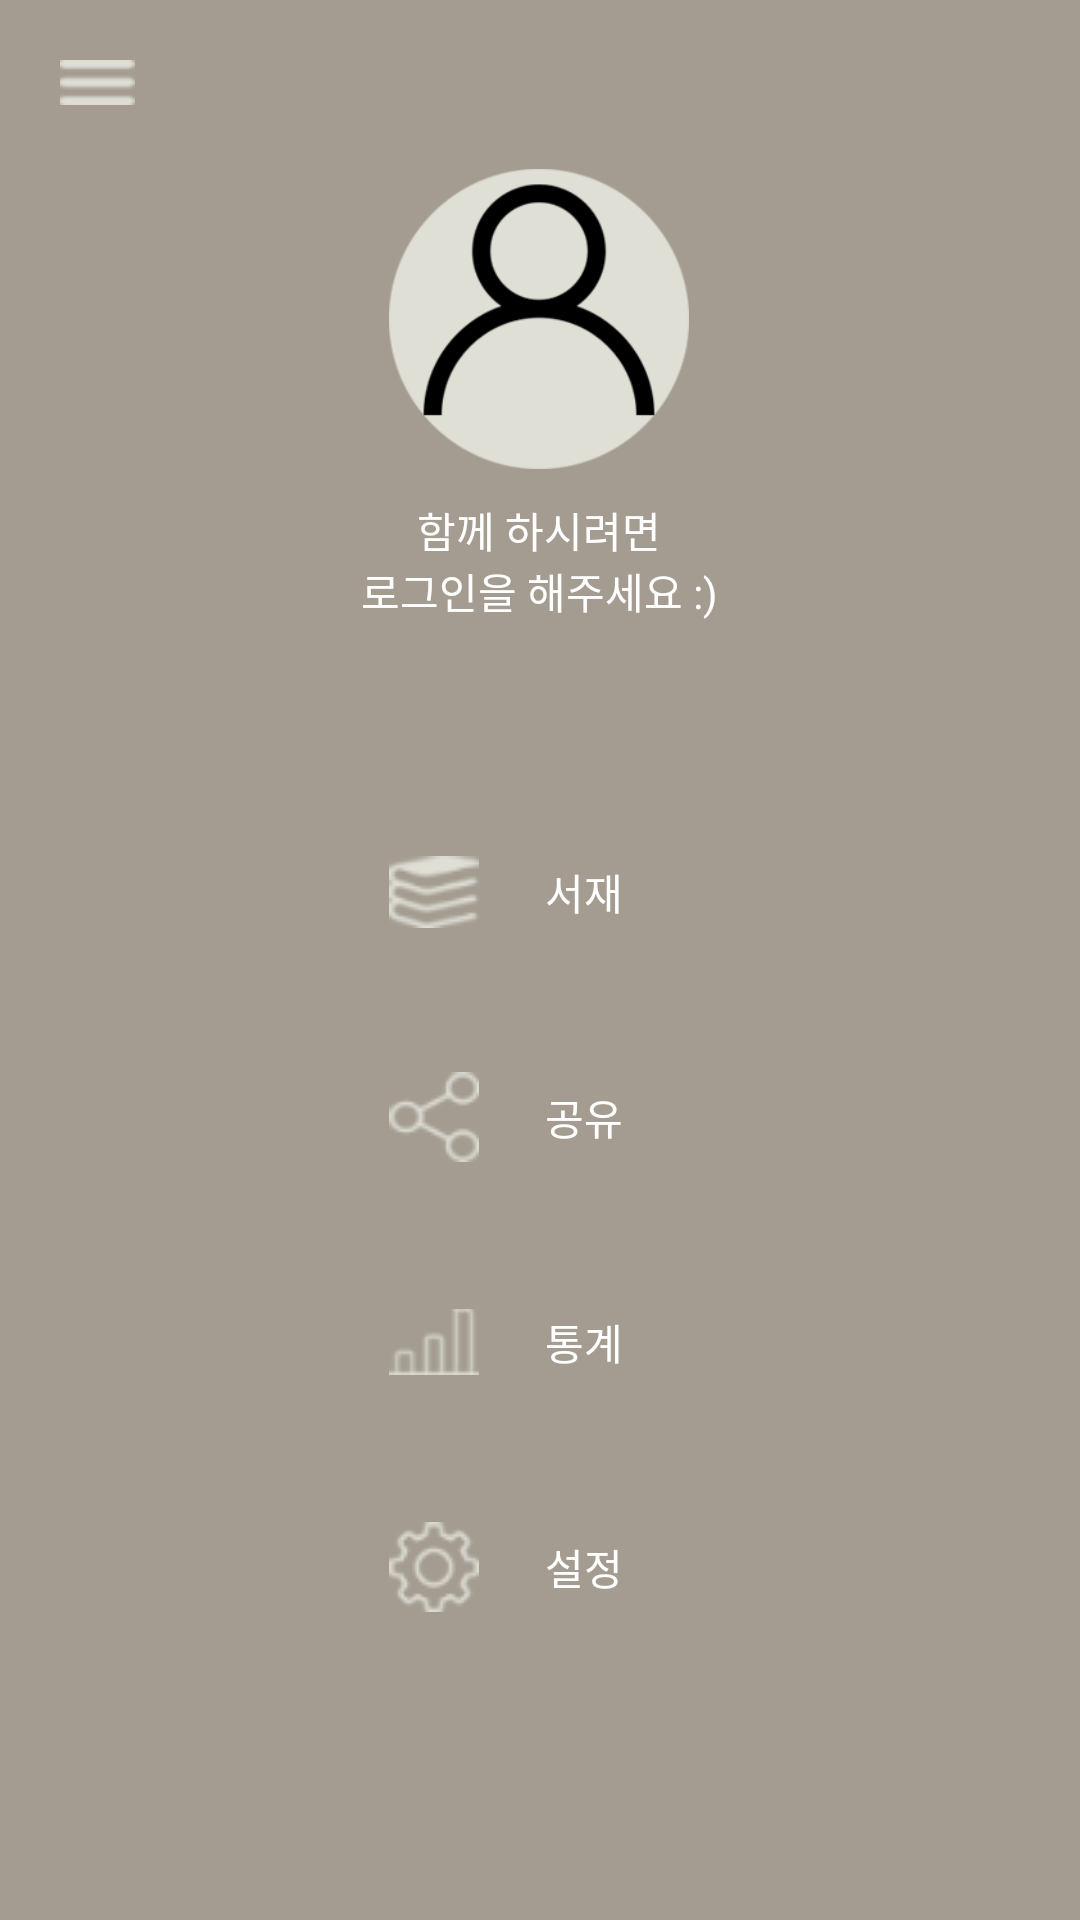

Icons on this 1080px×1920px Android screen, each with its box as (x1, y1, x2, y2):
menu: (60, 60, 135, 105)
profile: (389, 169, 689, 469)
